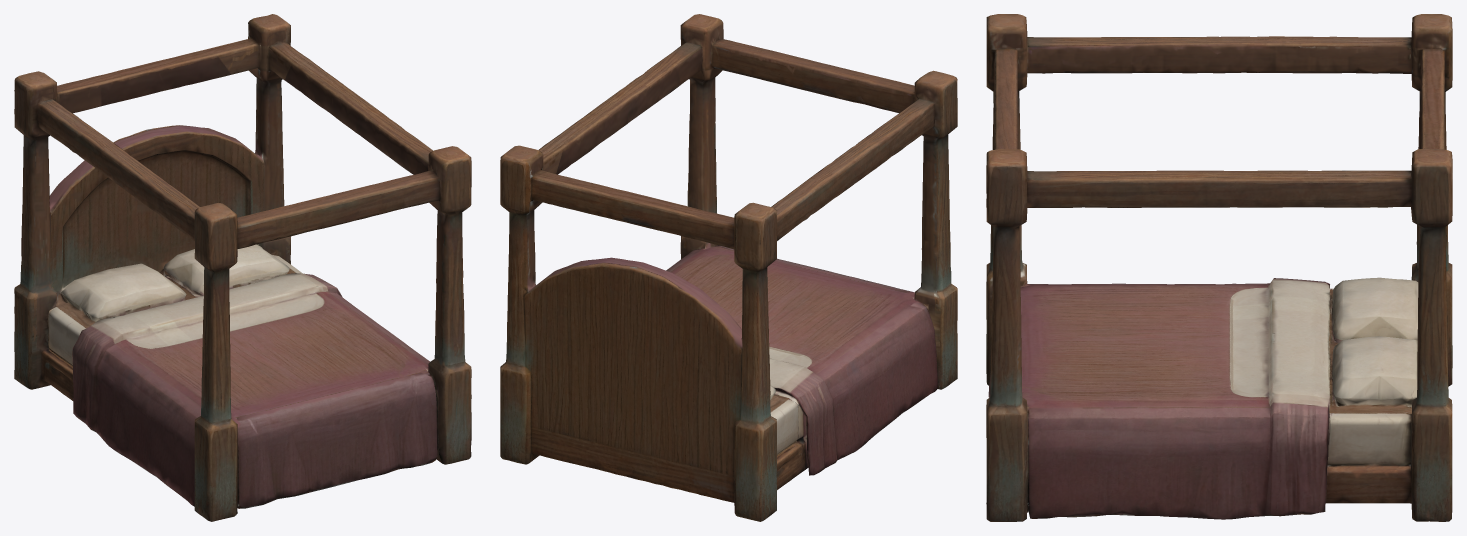
File: Furn_FourPosterBed.fbx
The picture shows the model from 3 angles, left to right: view 1: azimuth 30°, elevation 25°; view 2: azimuth 150°, elevation 25°; view 3: azimuth 270°, elevation 25°; orthographic projection. The views are drawn at different scales.
Visible parts, largest first — view 1: texture_mapping; view 2: texture_mapping; view 3: texture_mapping.
Part boxes in pixels (bbox=[...]): texture_mapping: bbox=[14, 14, 471, 521]; texture_mapping: bbox=[500, 14, 957, 521]; texture_mapping: bbox=[986, 14, 1452, 521].
Size of the model in its own units: 0.7728 by 1 by 0.8528.
Materials: 1 (1 with a texture image).
